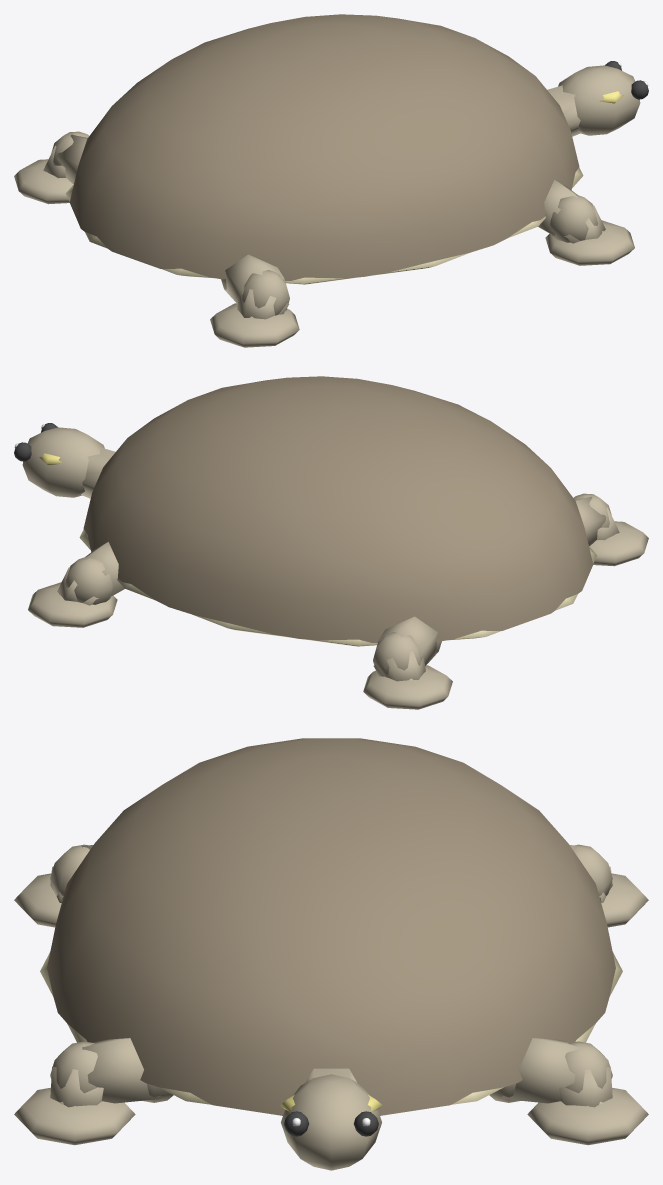
File: yellow-pond-turtle.glb
The picture shows the model from 3 angles, top to bottom: view 1: azimuth 30°, elevation 25°; view 2: azimuth 150°, elevation 25°; view 3: azimuth 270°, elevation 25°; orthographic projection. The views are drawn at different scales.
Visible parts, largest first — view 1: e, e.019, e.009, e.001, e.024; view 2: e, e.024, e.014, e.001, e.019; view 3: e, e.009, e.014, e.001, e.019, e.024.
Boxes of the visible parts, left/top/right/bottom form: e: left=65, top=14, right=583, bottom=284; e.019: left=210, top=254, right=299, bottom=347; e.009: left=538, top=180, right=634, bottom=265; e.001: left=558, top=61, right=648, bottom=135; e.024: left=14, top=131, right=88, bottom=204; e: left=79, top=376, right=597, bottom=646; e.024: left=363, top=616, right=452, bottom=709; e.014: left=28, top=542, right=124, bottom=627; e.001: left=14, top=423, right=104, bottom=497; e.019: left=573, top=493, right=648, bottom=566; e: left=40, top=738, right=622, bottom=1115; e.009: left=14, top=1038, right=173, bottom=1145; e.014: left=489, top=1038, right=648, bottom=1145; e.001: left=280, top=1074, right=382, bottom=1170; e.019: left=14, top=844, right=93, bottom=927; e.024: left=570, top=844, right=648, bottom=927.
Size of the model in its own units: 0.524 by 0.1698 by 0.4008.
